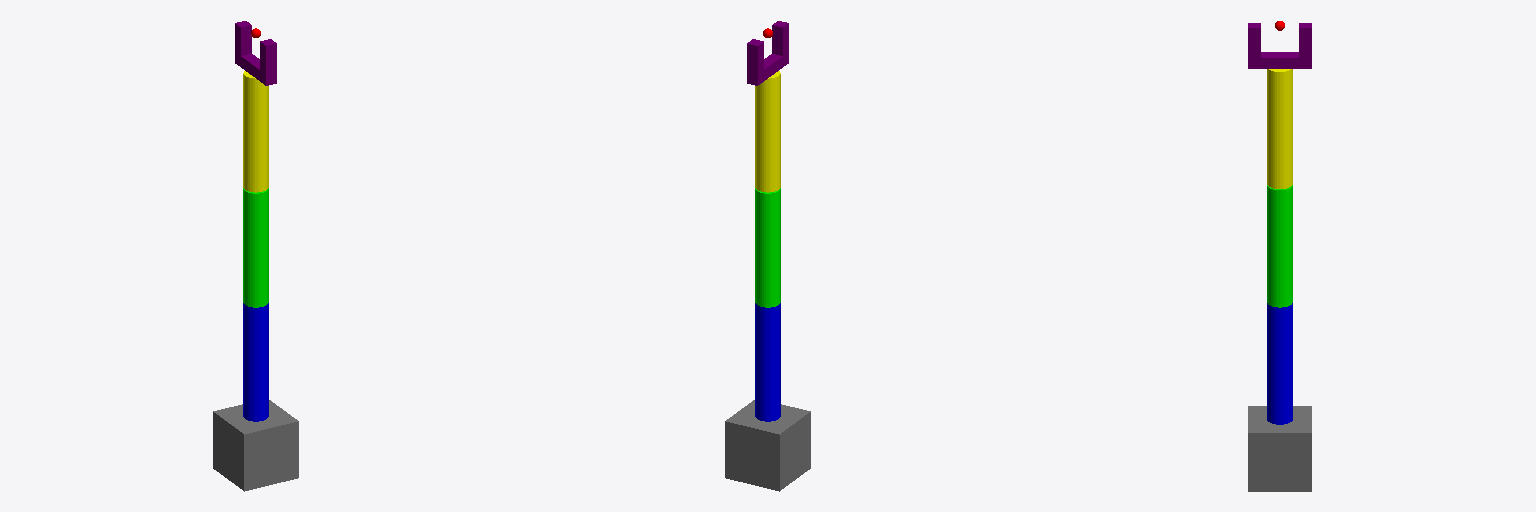
URDF robot description (prrr_manipulator):
<?xml version="1.0"?>
<robot name="prrr_manipulator">

  <!-- Base Link -->
  <link name="base_link">
    <visual>
      <origin xyz="0 0 0" rpy="0 0 0"/>
      <geometry>
        <box size="0.25 0.25 0.25"/>
      </geometry>
      <material name="gray">
        <color rgba="0.5 0.5 0.5 1"/>
      </material>
    </visual>
  </link>

  <!-- Joint -->
  <joint name="revolute1" type="revolute">
    <parent link="base_link"/>
    <child link="link2"/>
    <origin xyz="0 0 0.125" rpy="0 0 0"/>
    <axis xyz="1 0 0"/>
    <limit lower="-3.14" upper="3.14" effort="10" velocity="1"/>
  </joint>

  <!-- Link 2 -->
  <link name="link2">
    <visual>
      <origin xyz="0 0 0.25" rpy="0 0 0"/>
      <geometry>
        <cylinder length="0.5" radius="0.05"/>
      </geometry>
      <material name="blue">
        <color rgba="0 0 1 1"/>
      </material>
    </visual>
    <collision>
      <origin xyz="0 0 0.25" rpy="0 0 0"/>
      <geometry>
        <cylinder length="0.5" radius="0.05"/>
      </geometry>
    </collision>
  </link>

  <!-- Joint -->
  <joint name="revolute2" type="revolute">
    <parent link="link2"/>
    <child link="link3"/>
    <origin xyz="0 0 0.5" rpy="0 0 0"/>
    <axis xyz="1 0 0"/>
    <limit lower="-3.14" upper="3.14" effort="10" velocity="1"/>
  </joint>

  <!-- Link 2 -->
  <link name="link3">
    <visual>
      <origin xyz="0 0 0.25" rpy="0 0 0"/>
      <geometry>
        <cylinder length="0.5" radius="0.05"/>
      </geometry>
      <material name="green">
        <color rgba="0 1 0 1"/>
      </material>
    </visual>
    <collision>
      <origin xyz="0 0 0.25" rpy="0 0 0"/>
      <geometry>
        <cylinder length="0.5" radius="0.05"/>
      </geometry>
    </collision>
  </link>

  <!-- Joint -->
  <joint name="prismatic1" type="prismatic">
    <parent link="link3"/>
    <child link="prismatic_link"/>
    <origin xyz="0 0 0.005" rpy="0 0 0"/> <!-- There was a collision issue so I had to space this a bit off the previous link -->
    <axis xyz="0 1 0"/>
    <limit lower="-0.5" upper="0.5" effort="10" velocity="1"/>
  </joint>

  <!-- Link 1 -->
  <link name="prismatic_link">
  </link>  
  
  <!-- Joint -->
  <joint name="revolute3" type="revolute">
    <parent link="prismatic_link"/>
    <child link="link4"/>
    <origin xyz="0 0 0.5" rpy="0 0 0"/>
    <axis xyz="1 0 0"/>
    <limit lower="-3.14" upper="3.14" effort="10" velocity="1"/>
  </joint>

  <!-- Link 3 -->
  <link name="link4">
    <visual>
      <origin xyz="0 0 0.25" rpy="0 0 0"/>
      <geometry>
        <cylinder length="0.5" radius="0.05"/>
      </geometry>
      <material name="yellow">
        <color rgba="1 1 0 1"/>
      </material>
    </visual>
    <collision>
      <origin xyz="0 0 0.25" rpy="0 0 0"/>
      <geometry>
        <cylinder length="0.5" radius="0.05"/>
      </geometry>
    </collision>
  </link>

  <!-- Joint -->
  <joint name="fixed1" type="fixed">
    <parent link="link4"/>
    <child link="wrist"/>
    <origin xyz="0 0 0.525" rpy="0 0 1.57"/>
    <axis xyz="0 0 1"/>
    <limit lower="-3.14" upper="3.14" effort="10" velocity="1"/>
  </joint>

  <!-- Wrist Link -->
  <link name="wrist">
    <visual>
      <origin xyz="0 0 0" rpy="0 0 0"/>
      <geometry>
        <box size="0.25 0.05 0.05"/>
      </geometry>
      <material name="purple">
        <color rgba="0.5 0 0.5 1"/>
      </material>
    </visual>
    <collision>
      <origin xyz="0 0 0" rpy="0 0 0"/>
      <geometry>
        <box size="0.25 0.05 0.05"/>
      </geometry>
    </collision>
  </link>

  <!-- Joint -->
  <joint name="fixed2" type="fixed">
    <parent link="wrist"/>
    <child link="left_finger"/>
    <origin xyz="-0.1 0 0.075" rpy="0 0 0"/>
  </joint>

  <!-- Left Finger Link -->
  <link name="left_finger">
    <visual>
      <origin xyz="0 0 0" rpy="0 0 0"/>
      <geometry>
        <box size="0.05 0.05 0.15"/>
      </geometry>
      <material name="purple">
        <color rgba="0.5 0 0.5 1"/>
      </material>
    </visual>
    <collision>
      <origin xyz="0 0 0" rpy="0 0 0"/>
      <geometry>
        <box size="0.05 0.05 0.15"/>
      </geometry>
    </collision>
  </link>

  <!-- Joint -->
  <joint name="fixed3" type="fixed">
    <parent link="wrist"/>
    <child link="right_finger"/>
    <origin xyz="0.1 0 0.075" rpy="0 0 0"/>
  </joint>

  <!-- Right Finger Link -->
  <link name="right_finger">
    <visual>
      <origin xyz="0 0 0" rpy="0 0 0"/>
      <geometry>
        <box size="0.05 0.05 0.15"/>
      </geometry>
      <material name="purple">
        <color rgba="0.5 0 0.5 1"/>
      </material>
    </visual>
    <collision>
      <origin xyz="0 0 0" rpy="0 0 0"/>
      <geometry>
        <box size="0.05 0.05 0.15"/>
      </geometry>
    </collision>
  </link>

  <!-- Center of gripper -->
  <link name="gripper_center">
    <visual>
      <origin xyz="0 0 0.0" rpy="0 0 0"/>
      <geometry>
        <sphere radius="0.02"/> 
      </geometry>
      <material name="red">
        <color rgba="1 0 0 1"/>
      </material>
    </visual>
  </link>

  <!-- Joint -->
  <joint name="fixed4" type="fixed">
    <parent link="wrist"/>
    <child link="gripper_center"/>
    <origin xyz="0 0 0.15" rpy="0 0 0"/>
  </joint>  

</robot>

--- Facts derived from the render (not from the file) ---
The picture shows the robot from 3 angles, left to right: view 1: azimuth 30°, elevation 25°; view 2: azimuth 150°, elevation 25°; view 3: azimuth 270°, elevation 25°; orthographic projection.
Model prrr_manipulator with 9 links and 8 joints (3 revolute, 1 prismatic, 4 fixed), rooted at base_link, posed every joint at zero.
Visible links, largest first — view 1: base_link, link3, link2, link4, wrist, left_finger, right_finger; view 2: base_link, link3, link2, link4, wrist, left_finger, right_finger; view 3: base_link, link4, link3, link2, wrist.
Link boxes in pixels (x1=…): base_link: x1=213, y1=400, x2=298, y2=491; link3: x1=243, y1=188, x2=268, y2=307; link2: x1=243, y1=303, x2=268, y2=421; link4: x1=243, y1=71, x2=268, y2=192; wrist: x1=235, y1=52, x2=276, y2=85; left_finger: x1=260, y1=39, x2=276, y2=78; right_finger: x1=235, y1=21, x2=251, y2=56; base_link: x1=725, y1=400, x2=810, y2=491; link3: x1=755, y1=188, x2=780, y2=307; link2: x1=755, y1=303, x2=780, y2=421; link4: x1=755, y1=71, x2=780, y2=192; wrist: x1=747, y1=54, x2=788, y2=85; left_finger: x1=772, y1=21, x2=788, y2=60; right_finger: x1=747, y1=39, x2=763, y2=78; base_link: x1=1248, y1=406, x2=1311, y2=491; link4: x1=1267, y1=69, x2=1292, y2=188; link3: x1=1267, y1=185, x2=1292, y2=307; link2: x1=1267, y1=303, x2=1292, y2=424; wrist: x1=1248, y1=52, x2=1311, y2=68.
Bounding box of the posed robot: 0.25 × 0.25 × 1.95 m (x, y, z).
Geometry: primitives only (box / cylinder / sphere), no mesh files.